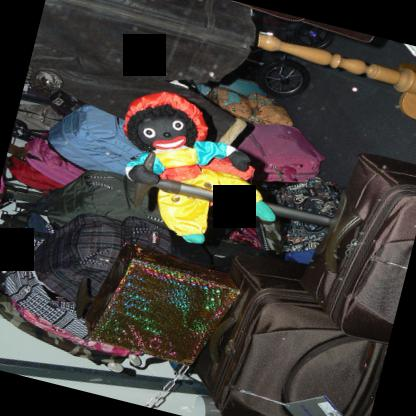backpack: (32, 213, 212, 302), (0, 288, 132, 368), (7, 294, 144, 361), (20, 104, 142, 173), (4, 253, 91, 343), (46, 169, 169, 230), (7, 136, 85, 185), (0, 209, 51, 253), (6, 156, 59, 193)
handbag: (236, 121, 321, 181), (275, 177, 341, 250)
suitcase: (133, 154, 416, 343), (194, 254, 388, 416)
